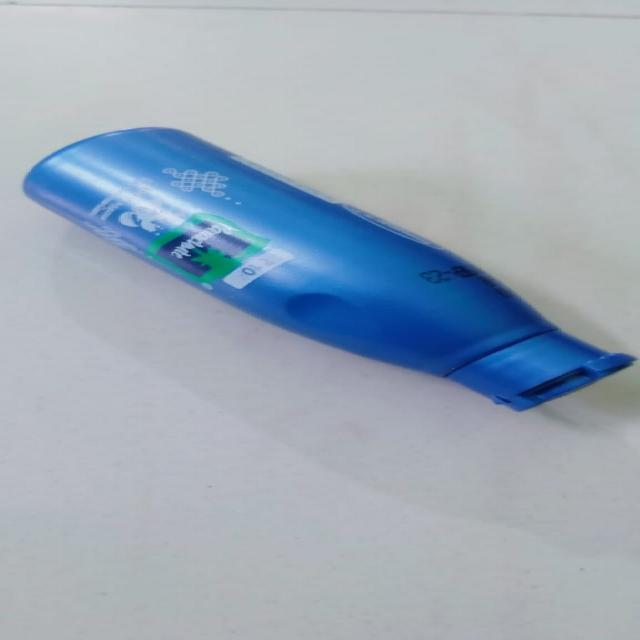oil: (25, 115, 640, 411)
